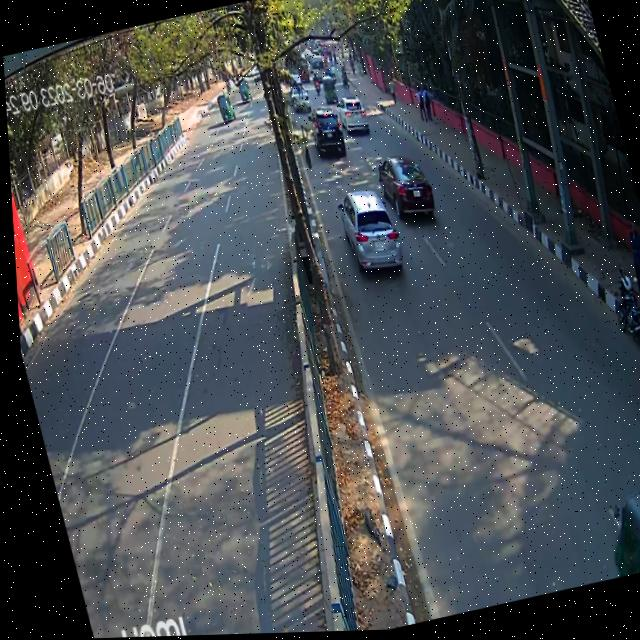cng: (211, 86, 238, 136), (317, 74, 341, 113)
